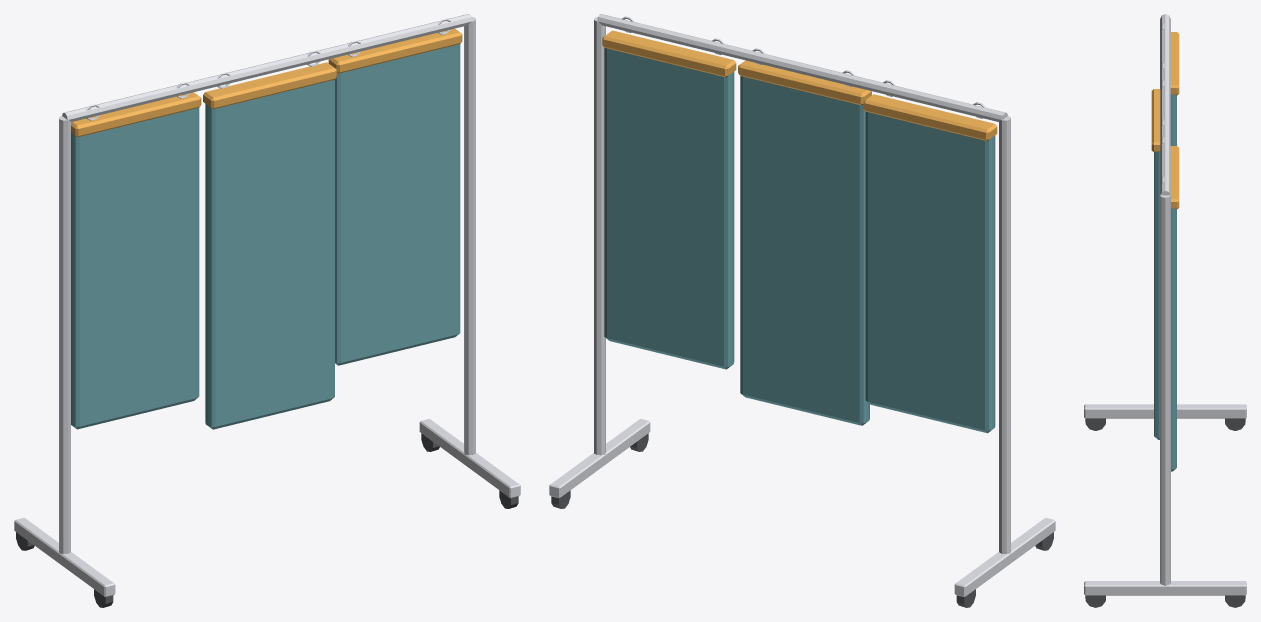
File: 35507_Sound_Blankets_on_a_Rail__TV_Studio_and_Broadcast_Gallery_.glb
3 views of the same model, side by side, from view 1: azimuth 30°, elevation 25°; view 2: azimuth 150°, elevation 25°; view 3: azimuth 270°, elevation 25° (orthographic). The views are drawn at different scales.
Parts seen in each view (by area): view 1: sound-blanket-on-rail; view 2: sound-blanket-on-rail; view 3: sound-blanket-on-rail.
Boxes of the visible parts, <box> form: sound-blanket-on-rail: <box>14,14,520,607</box>; sound-blanket-on-rail: <box>549,14,1055,607</box>; sound-blanket-on-rail: <box>1084,14,1246,607</box>.
Size of the model in its own units: 1.85 by 1.99 by 0.6999.
